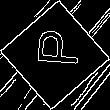P_W: (29, 35, 81, 75)
